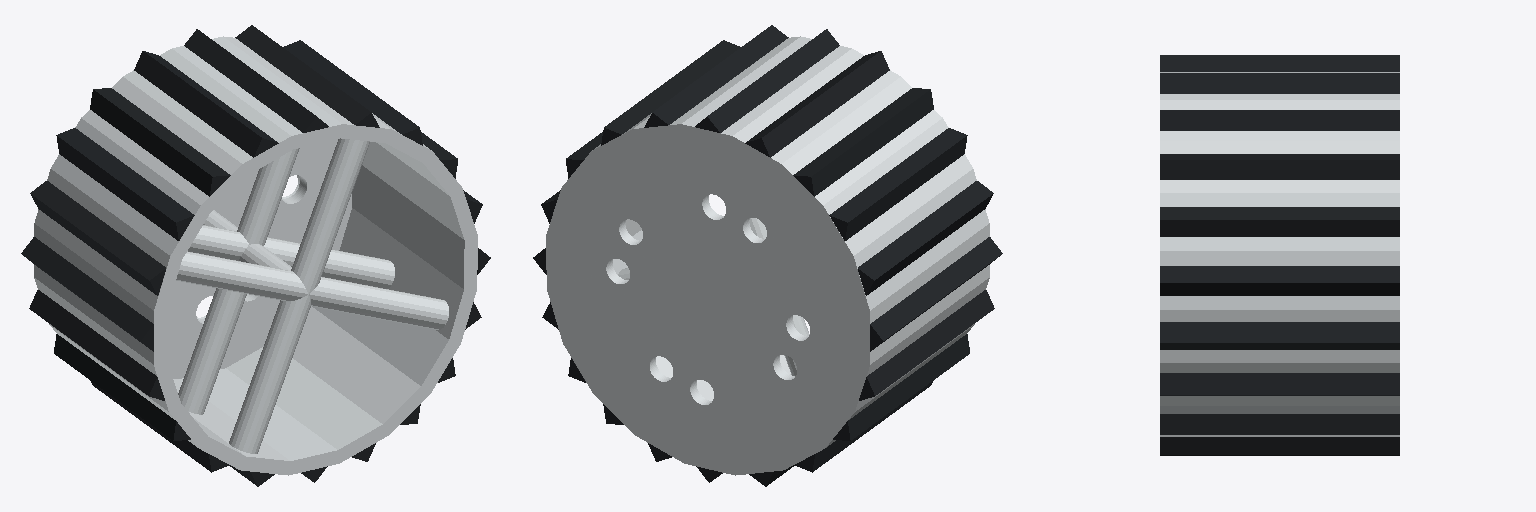
Rendered from tinker.obj.
3 views of the same model, side by side, from view 1: azimuth 30°, elevation 25°; view 2: azimuth 150°, elevation 25°; view 3: azimuth 270°, elevation 25° (orthographic).
Parts seen in each view (by area): view 1: obj_0; view 2: obj_0; view 3: obj_0.
Part boxes in pixels (left/top/right/bottom): obj_0: left=21, top=25, right=490, bottom=486; obj_0: left=533, top=25, right=1002, bottom=486; obj_0: left=1160, top=55, right=1399, bottom=455.
Size of the model in its own units: 52.41 by 52.35 by 31.